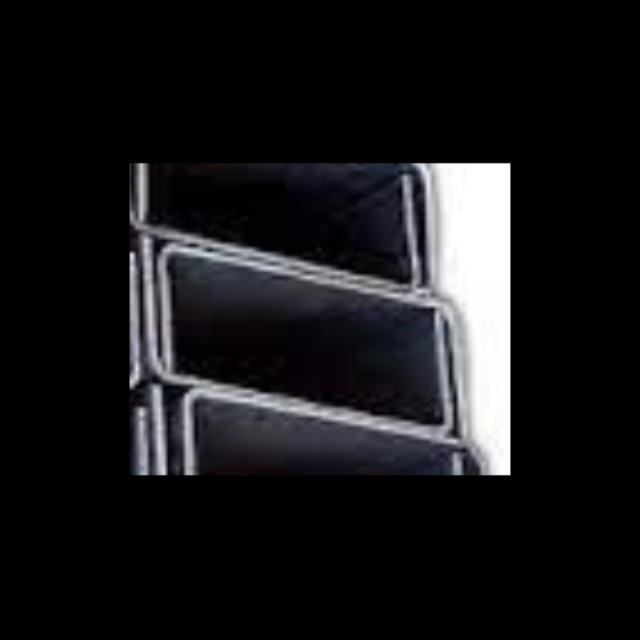Shveller: (147, 242, 447, 427), (165, 251, 469, 431), (143, 163, 436, 282), (130, 163, 414, 283), (152, 389, 464, 475), (189, 400, 492, 475)
